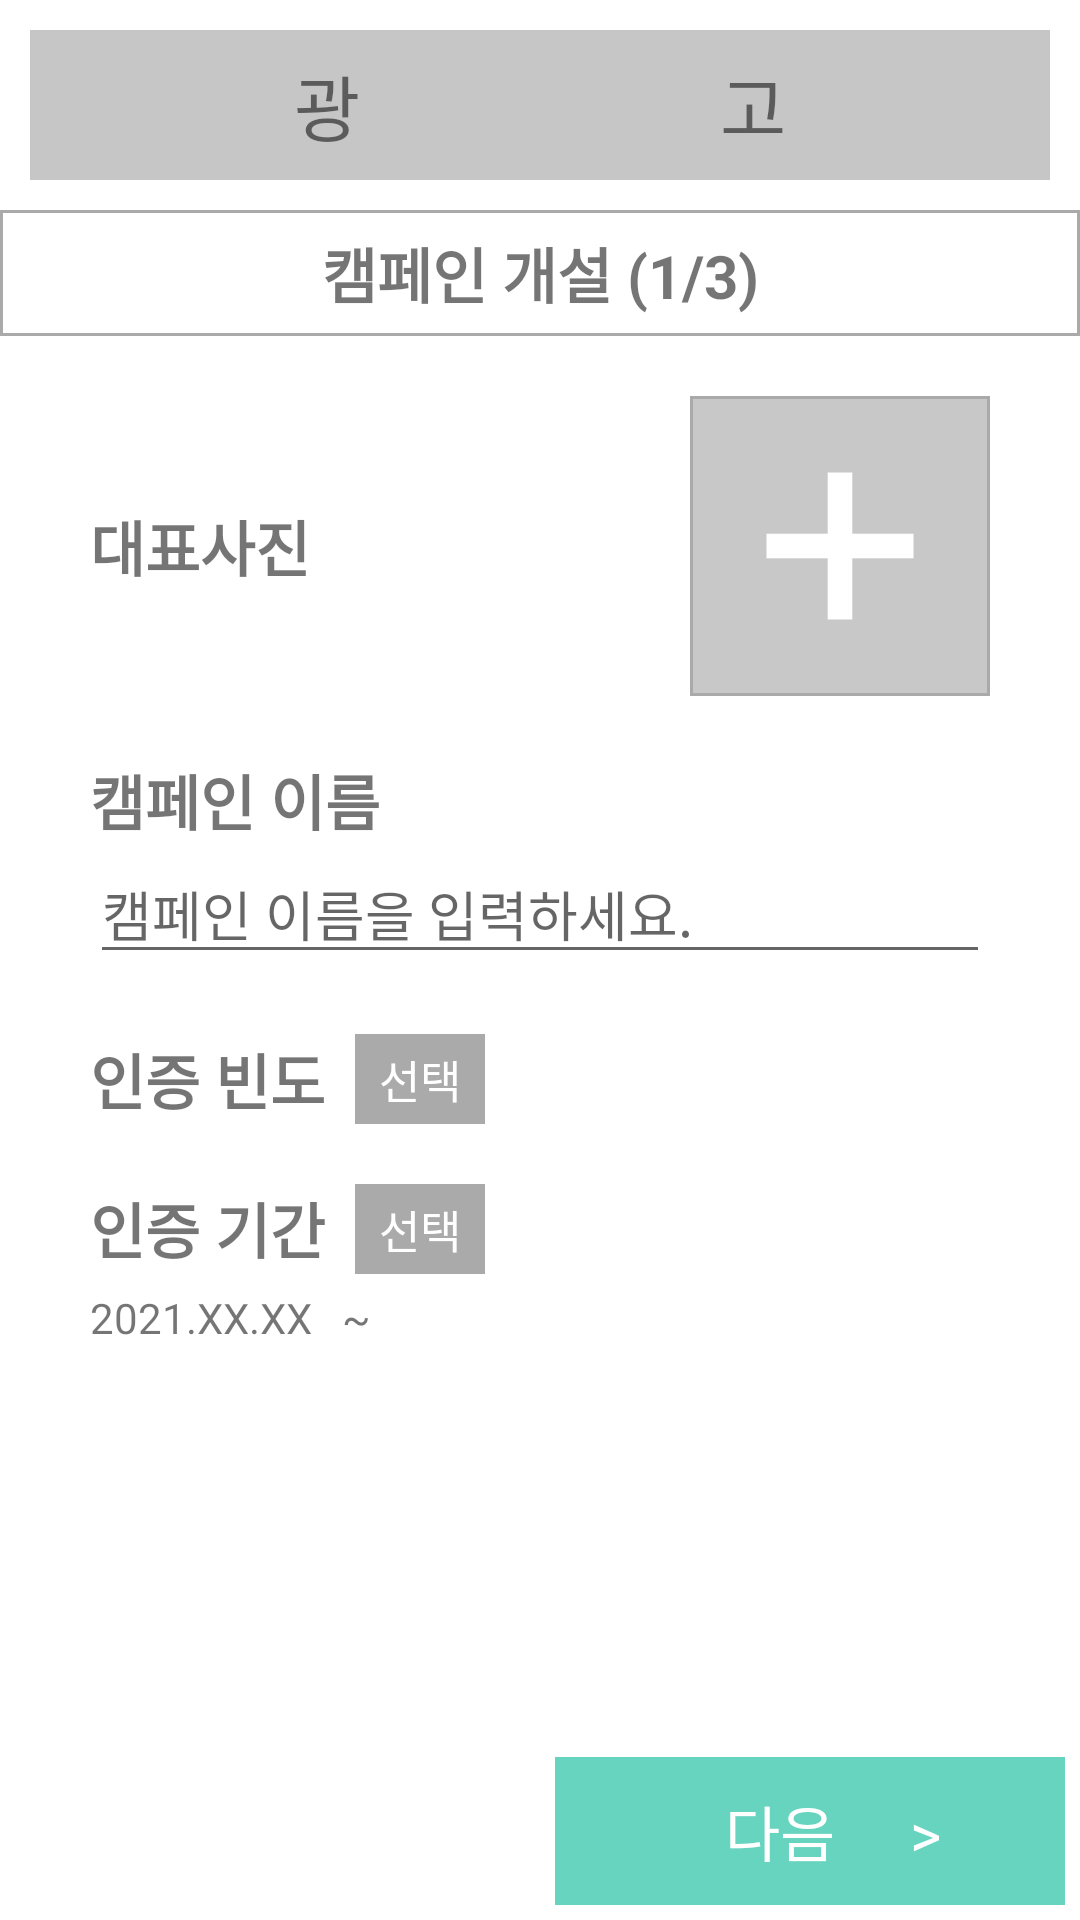

Icons on this 1080px x 1920px Android screen, each with its box as (x1, y1, x2, y2):
add: (690, 396, 990, 696)
